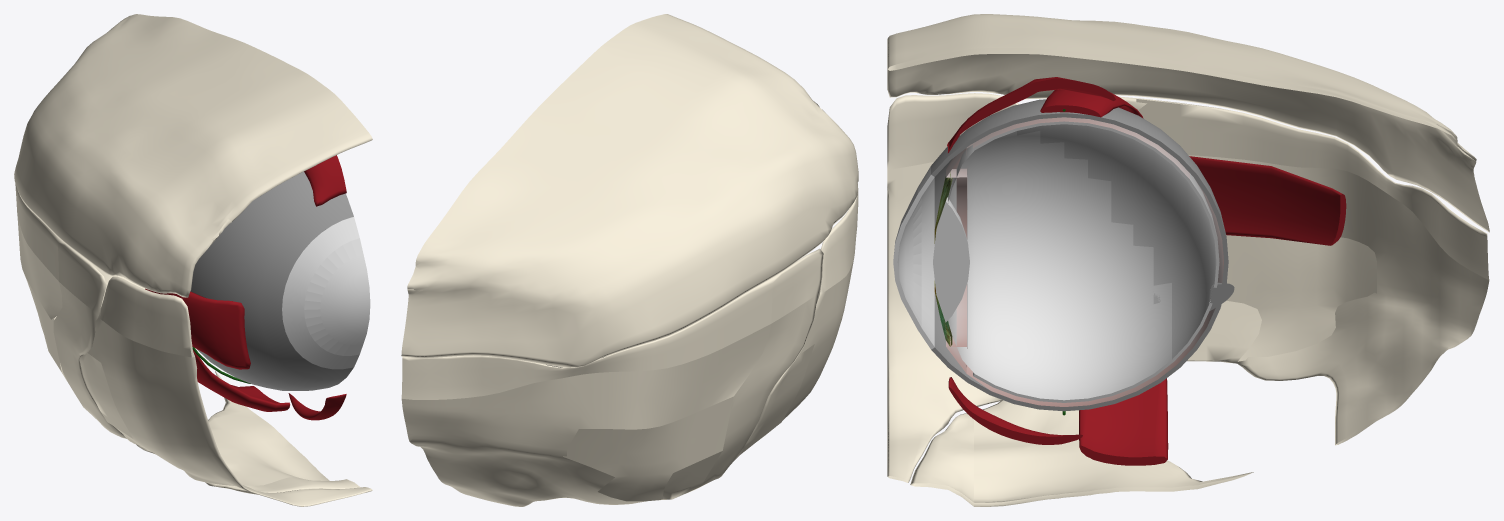
The model's file is HalfOrbit.FBX.
3 views of the same model, side by side, from view 1: azimuth 30°, elevation 25°; view 2: azimuth 150°, elevation 25°; view 3: azimuth 270°, elevation 25° (orthographic). The views are drawn at different scales.
Visible parts, largest first — view 1: osFrontale, osZygomaticum, bSclera, bCornea, osSphenoildale, osMaxilla, mRectusLateralis, mObliquusInferior, mRectusSuperior, mRectusInferior; view 2: osFrontale, osSphenoildale, osZygomaticum; view 3: osSphenoildale, bCorpusVitreum, osFrontale, bRetina, osZygomaticum, osMaxilla, mRectusLateralis, bSclera, mObliquusInferior, bCornea, bLens, bChoroidea (+4 smaller).
Boxes of the visible parts, box(x1,y1,x2,y2) form: osFrontale: box(14, 14, 372, 297); osZygomaticum: box(79, 276, 372, 506); bSclera: box(190, 171, 353, 390); bCornea: box(282, 217, 370, 369); osSphenoildale: box(15, 184, 144, 438); osMaxilla: box(136, 371, 360, 494); mRectusLateralis: box(145, 288, 250, 369); mObliquusInferior: box(193, 350, 290, 411); mRectusSuperior: box(304, 155, 346, 206); mRectusInferior: box(288, 393, 346, 420); osFrontale: box(401, 14, 858, 367); osSphenoildale: box(401, 248, 823, 506); osZygomaticum: box(731, 190, 858, 463); osSphenoildale: box(1119, 96, 1489, 445); bCorpusVitreum: box(948, 131, 1213, 400); osFrontale: box(887, 14, 1489, 232); bRetina: box(973, 121, 1219, 402); osZygomaticum: box(887, 93, 1018, 482); osMaxilla: box(910, 400, 1253, 506); mRectusLateralis: box(1189, 156, 1346, 245); bSclera: box(931, 99, 1228, 411); mObliquusInferior: box(1079, 378, 1168, 465); bCornea: box(893, 166, 934, 349); bLens: box(933, 197, 969, 322); bChoroidea: box(966, 117, 1223, 406).
Size of the model in its own units: 0.735 by 1.32 by 1.56.
